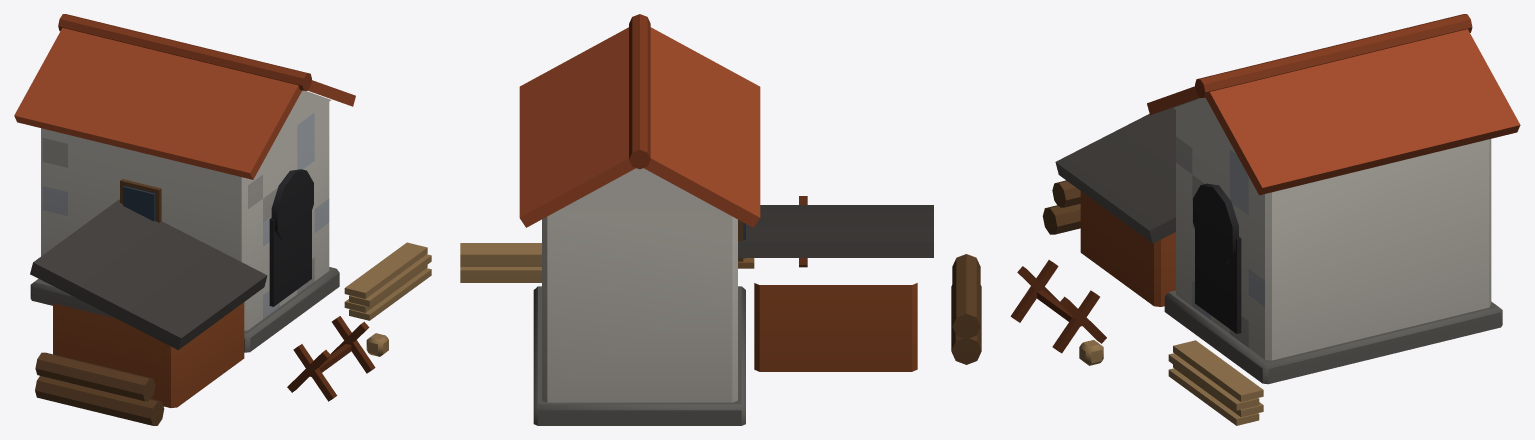
Rendered from building_4.glb.
3 renders of one model, left to right at view 1: azimuth 30°, elevation 25°; view 2: azimuth 150°, elevation 25°; view 3: azimuth 270°, elevation 25°, orthographic. The views are drawn at different scales.
Parts seen in each view (by area): view 1: building_4; view 2: building_4; view 3: building_4.
Part boxes in pixels (x1,y1,x2,y2): building_4: (14, 14, 431, 425); building_4: (460, 14, 981, 425); building_4: (1010, 14, 1520, 425).
Size of the model in its own units: 1.03 by 0.5792 by 0.9757.
